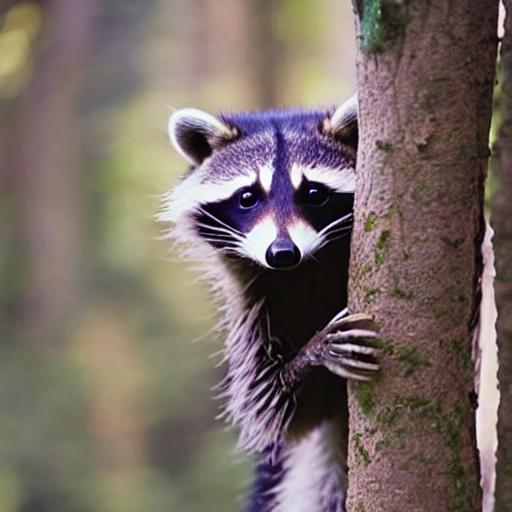raccoon: (164, 88, 342, 512)
